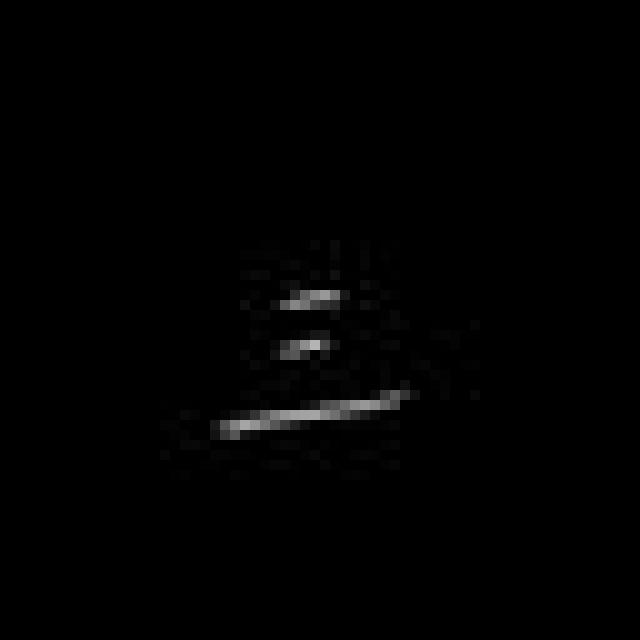3 -three-: (204, 272, 419, 453)
